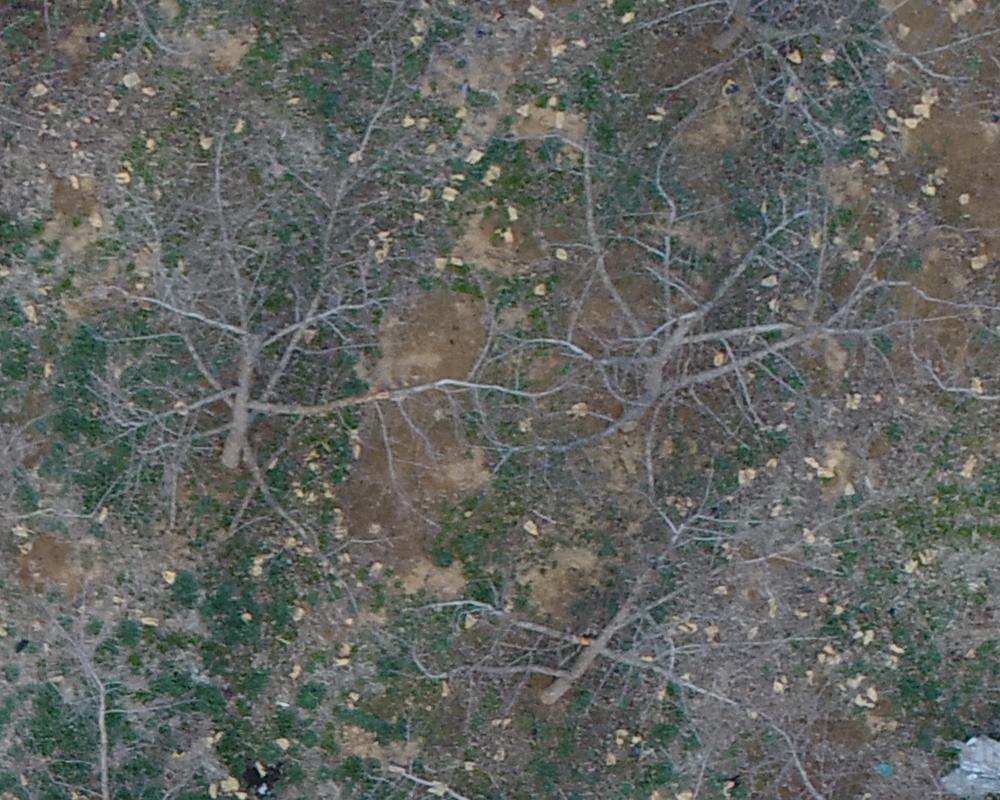apple: (112, 101, 461, 546), (496, 132, 865, 509), (395, 533, 758, 754)
